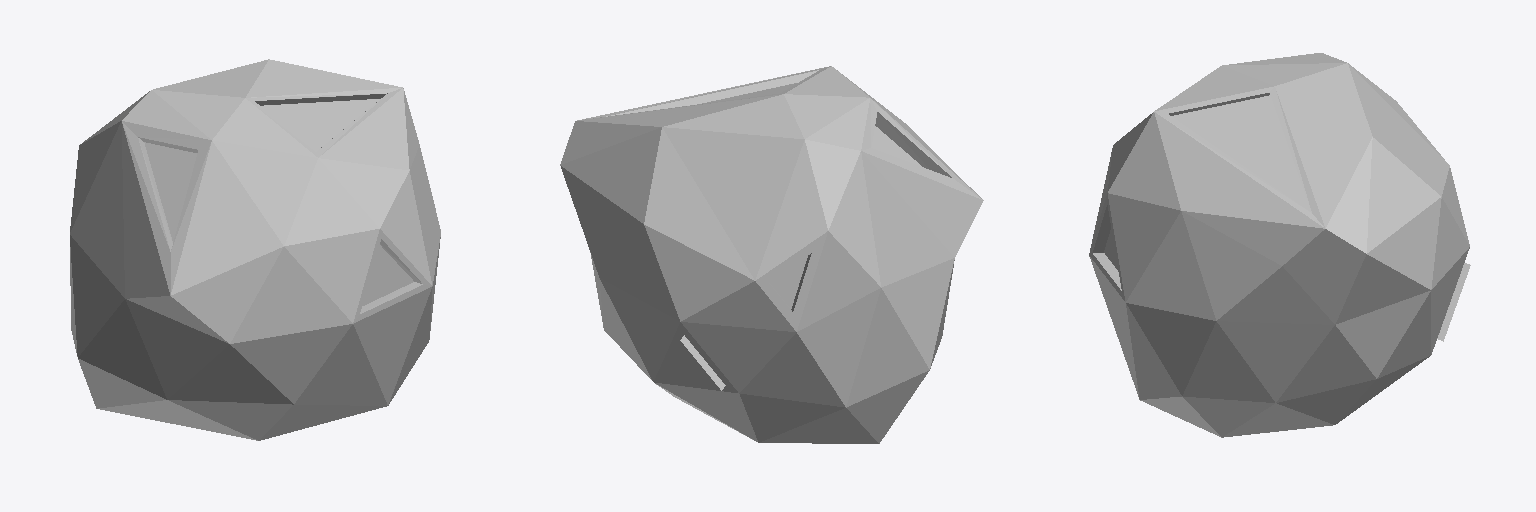
Rendered from commet.obj.
3 views of the same model, side by side, from view 1: azimuth 30°, elevation 25°; view 2: azimuth 150°, elevation 25°; view 3: azimuth 270°, elevation 25° (orthographic).
Parts seen in each view (by area): view 1: Cube; view 2: Cube; view 3: Cube.
Part boxes in pixels (x1,y1,x2,y2): Cube: (70,59,440,440); Cube: (560,66,983,443); Cube: (1089,53,1470,437).
Size of the model in its own units: 4.2 by 3.85 by 4.08.